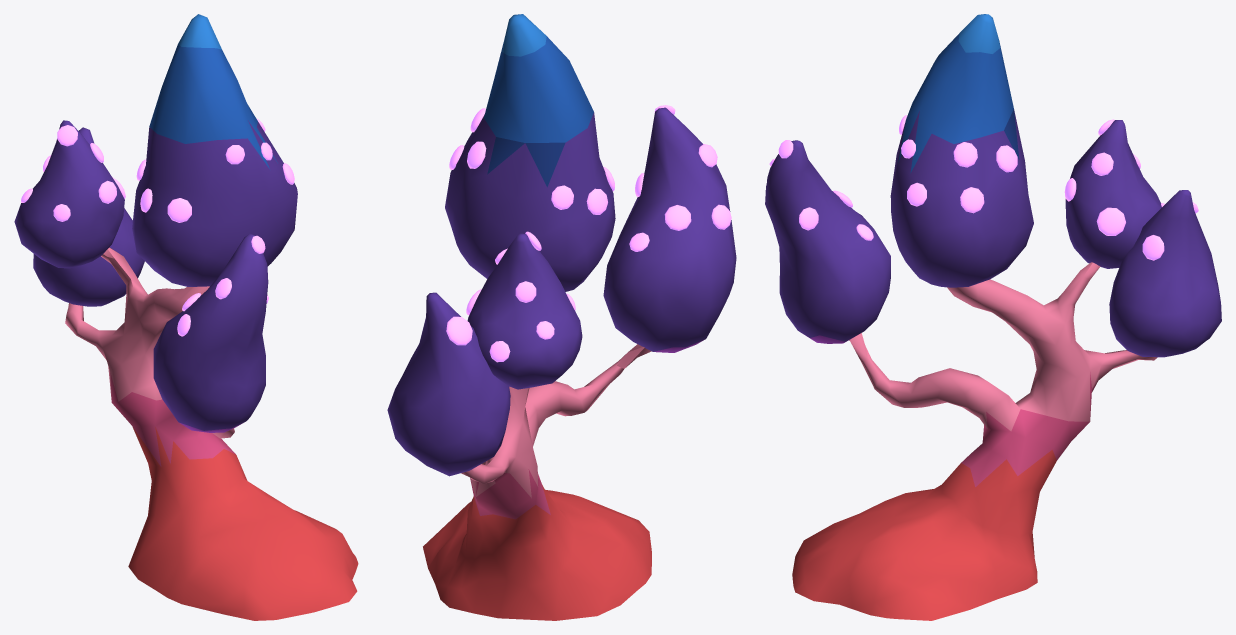
Rendered from cogumelo_fabuloso_gigante_pacote.glb.
The picture shows the model from 3 angles, left to right: view 1: azimuth 30°, elevation 25°; view 2: azimuth 150°, elevation 25°; view 3: azimuth 270°, elevation 25°; orthographic projection. The views are drawn at different scales.
Visible parts, largest first — view 1: cogumelo_fabuloso_gigante_pacote; view 2: cogumelo_fabuloso_gigante_pacote; view 3: cogumelo_fabuloso_gigante_pacote.
Part boxes in pixels (box(x1,y1,x2,y2)): cogumelo_fabuloso_gigante_pacote: box(14, 14, 358, 620); cogumelo_fabuloso_gigante_pacote: box(387, 14, 736, 620); cogumelo_fabuloso_gigante_pacote: box(765, 14, 1221, 620).
Size of the model in its own units: 4.35 by 9.75 by 7.34.
Materials: 2 (1 with a texture image).
